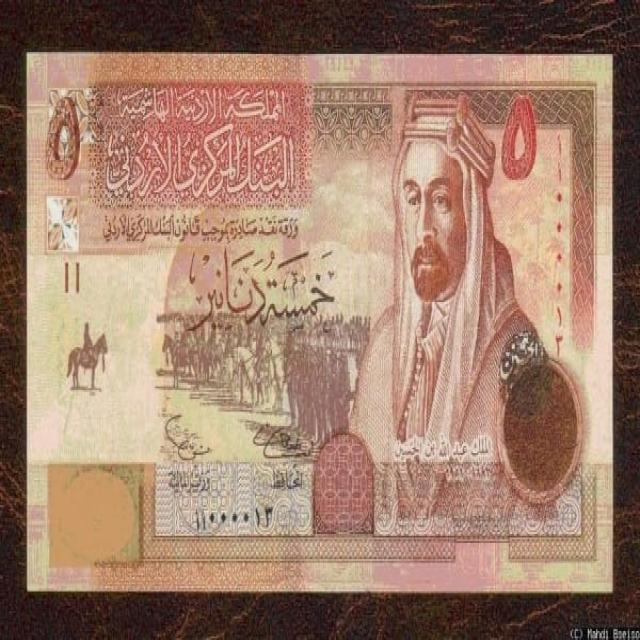5-dinar: (27, 49, 616, 596)
